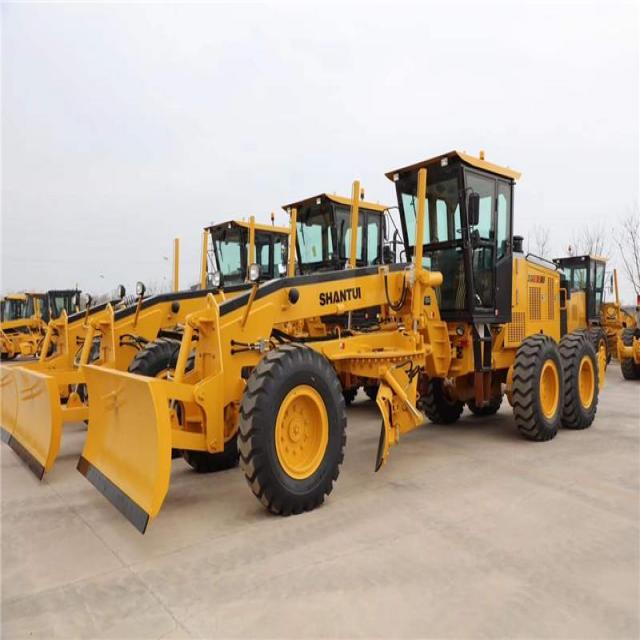Grader: (77, 126, 618, 514)
